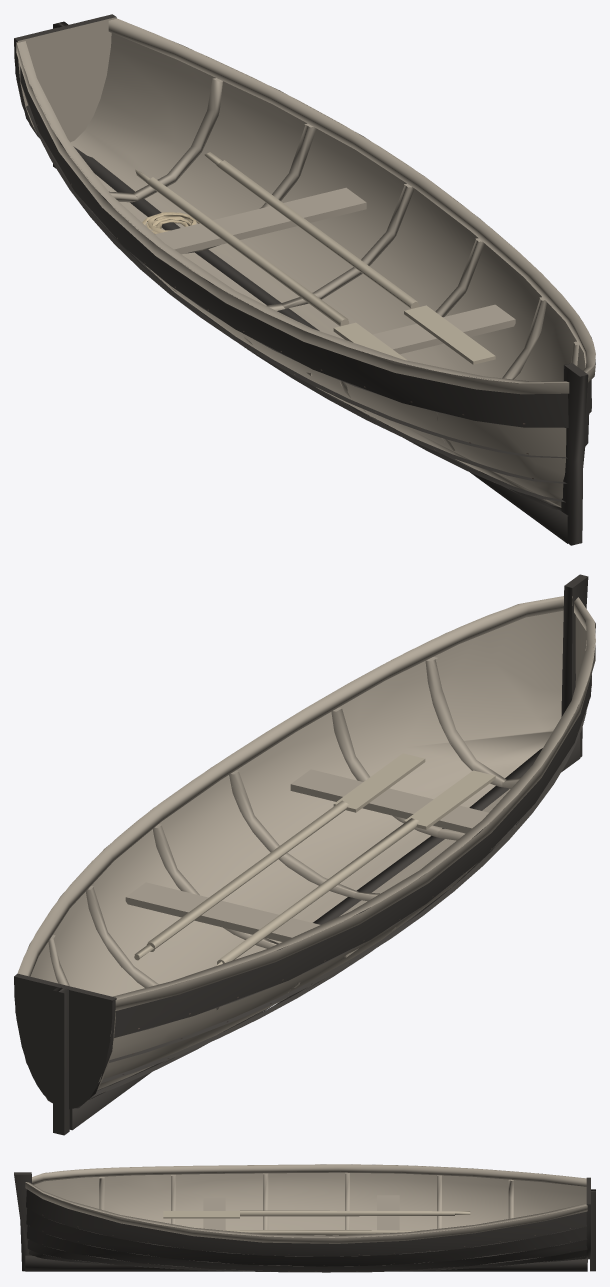
File: rowing-boat.glb
3 views of the same model, one above another, from view 1: azimuth 30°, elevation 25°; view 2: azimuth 150°, elevation 25°; view 3: azimuth 270°, elevation 25° (orthographic). The views are drawn at different scales.
Visible parts, largest first — view 1: iron; view 2: iron; view 3: iron.
Part boxes in pixels (x1,y1,x2,y2): iron: (14,14,595,545); iron: (14,574,595,1135); iron: (14,1164,595,1272).
Bounding box in the file's own units: 1.7 × 1.04 × 5.69.
